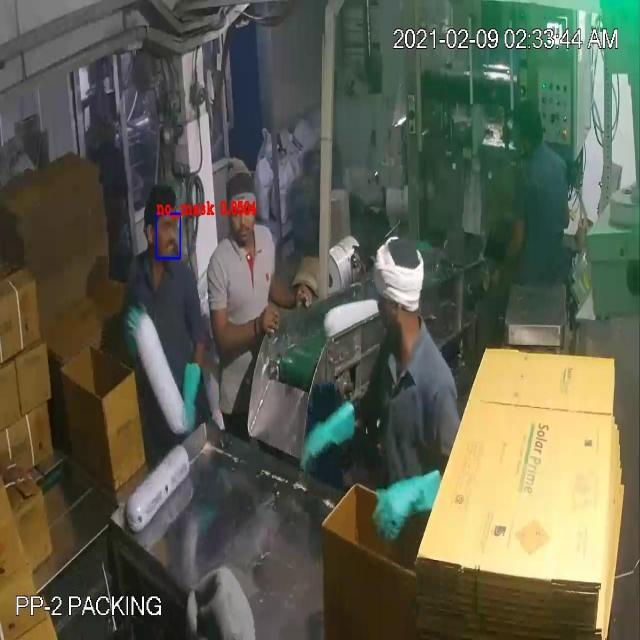No_Gloves: (38, 47, 506, 510)
